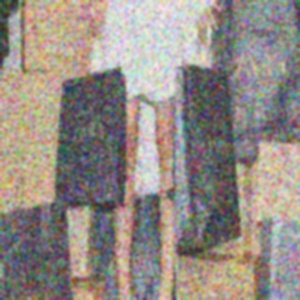zara: (96, 66, 300, 197), (71, 22, 300, 66), (71, 61, 143, 183)
